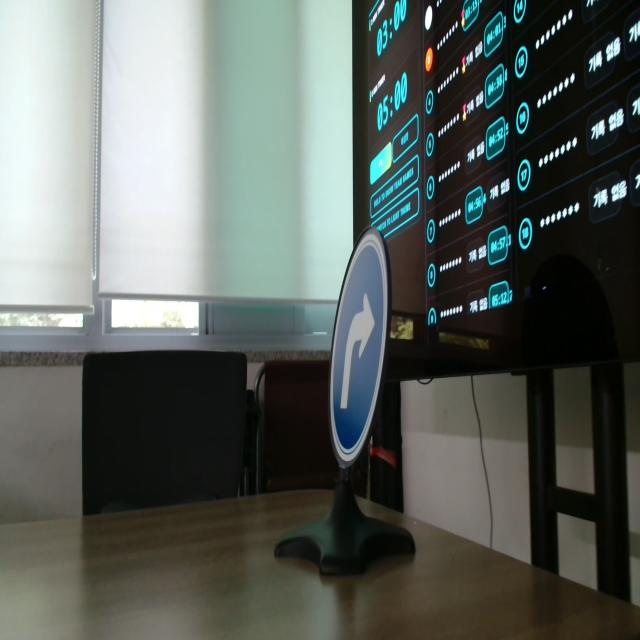right_dierection: (311, 216, 407, 474)
